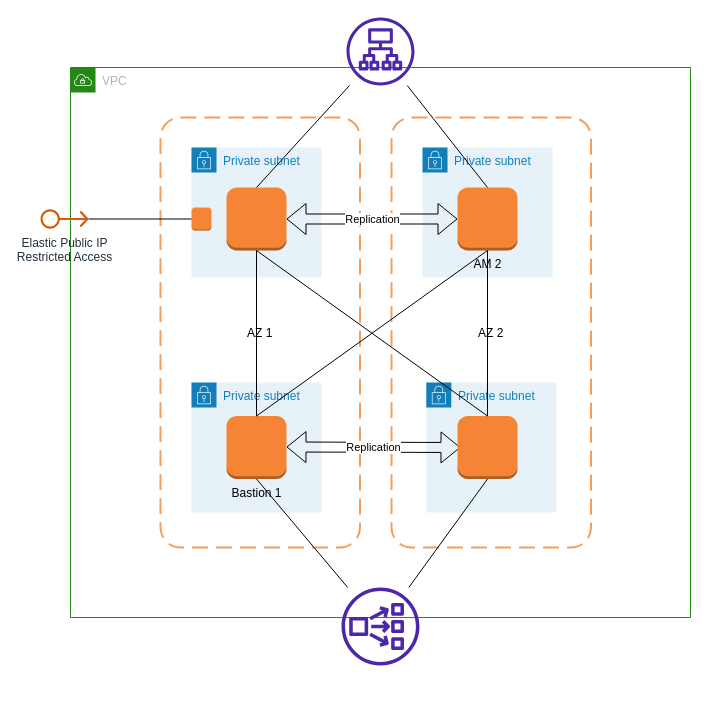
This 708x703 diagram has some shape labels left out. The box of each missing label's shape, as (x1, y1, x2, y2) in pixels:
AM 1: (226, 186, 286, 250)
Application Gateway: (346, 17, 414, 85)
Bastion 2: (456, 415, 518, 479)
Integraiton Debian: (190, 206, 212, 230)
Network Load Balancer: (341, 587, 419, 665)
